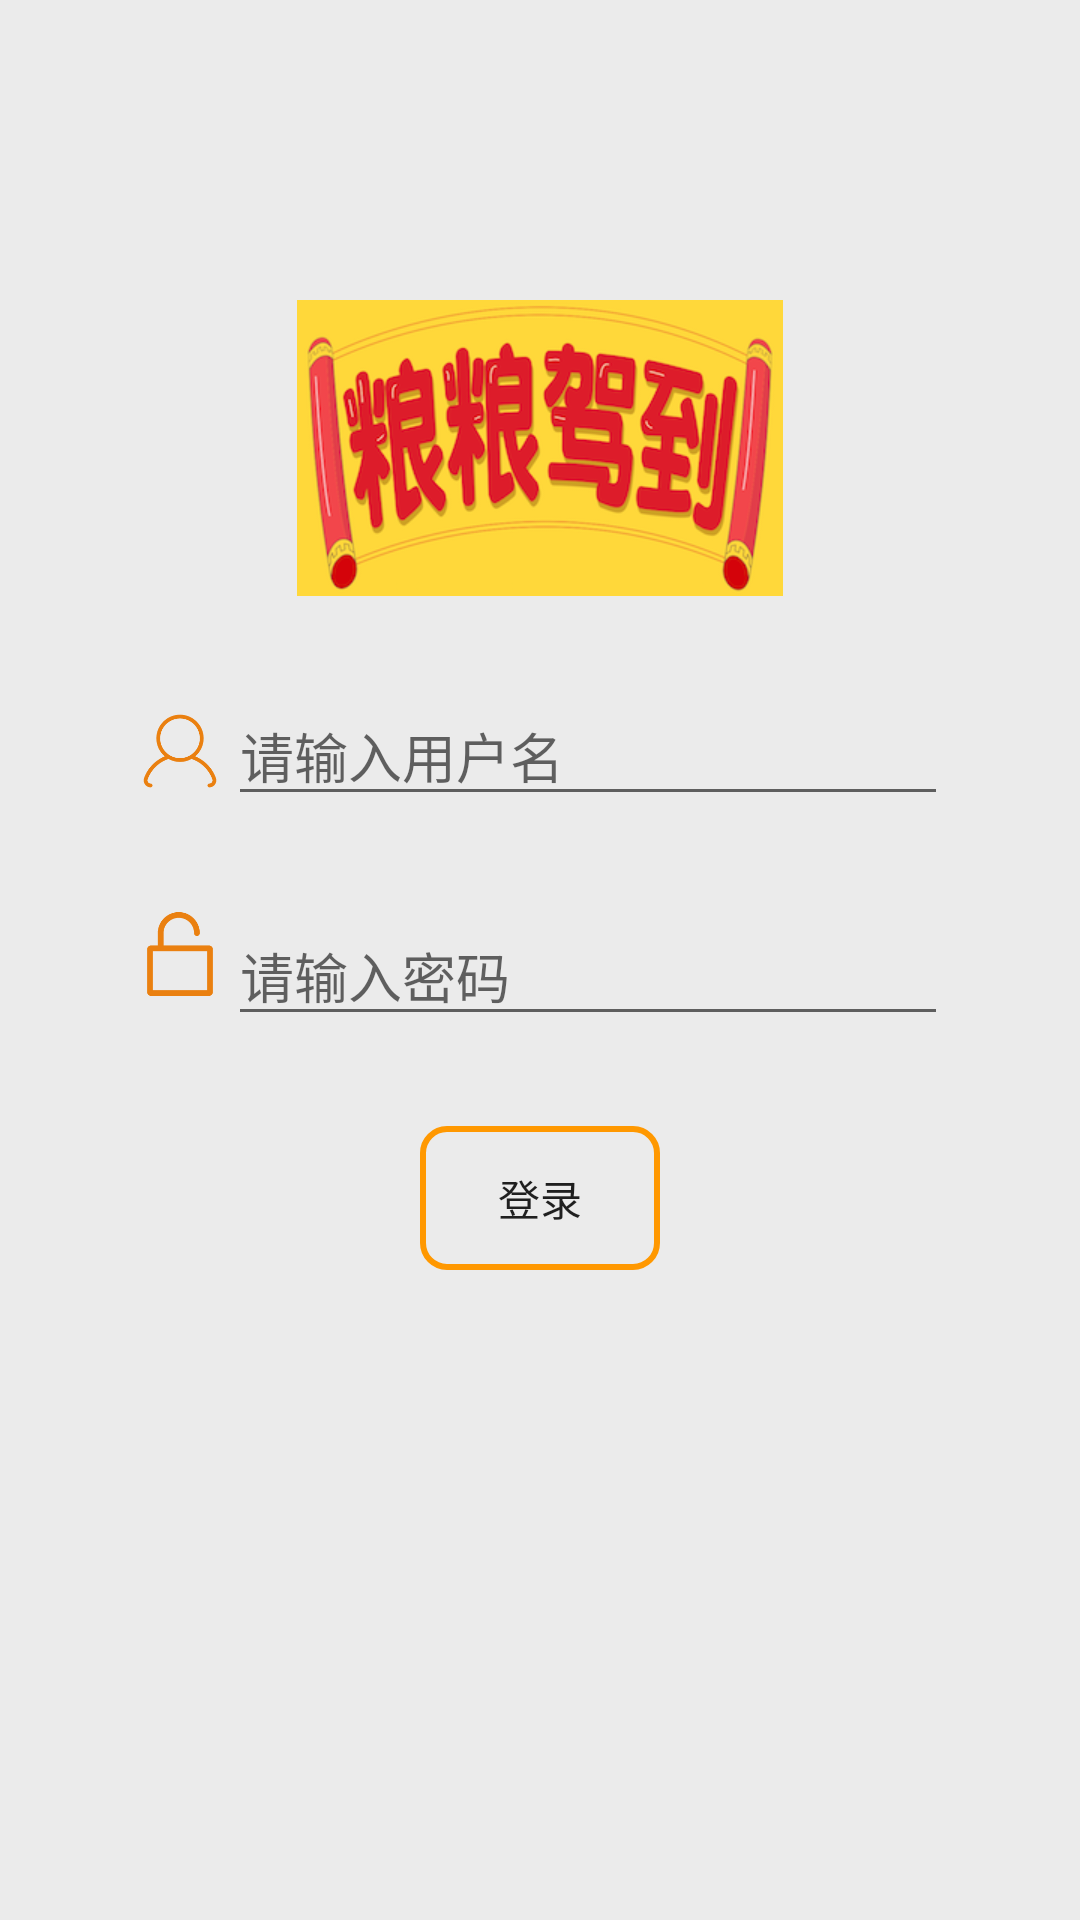

Icons on this 1080 x 1920 Android screen, each with the point to tap as (x,y):
password: (180,954)
user: (180,751)
